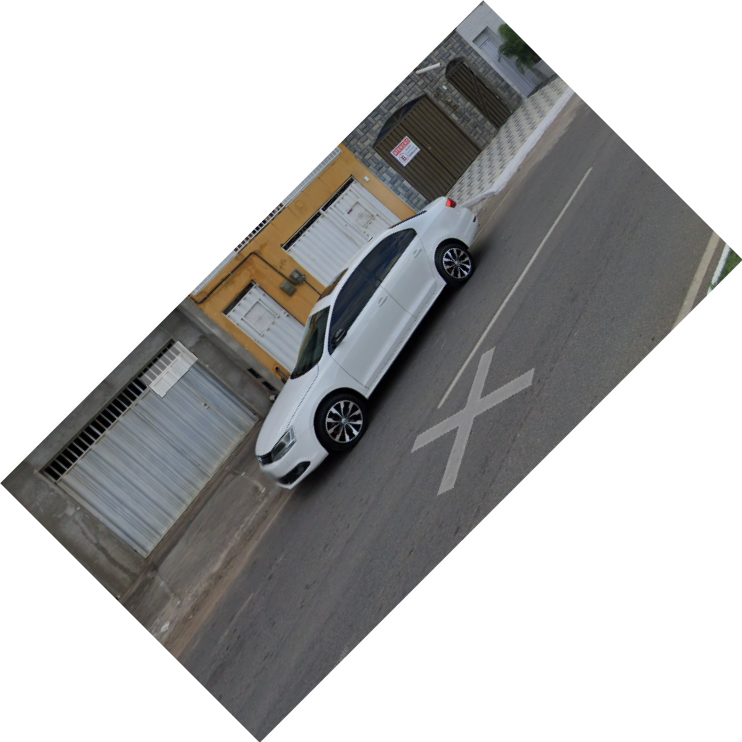car: (252, 192, 481, 500)
